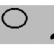no answer: (2, 6, 28, 30)
